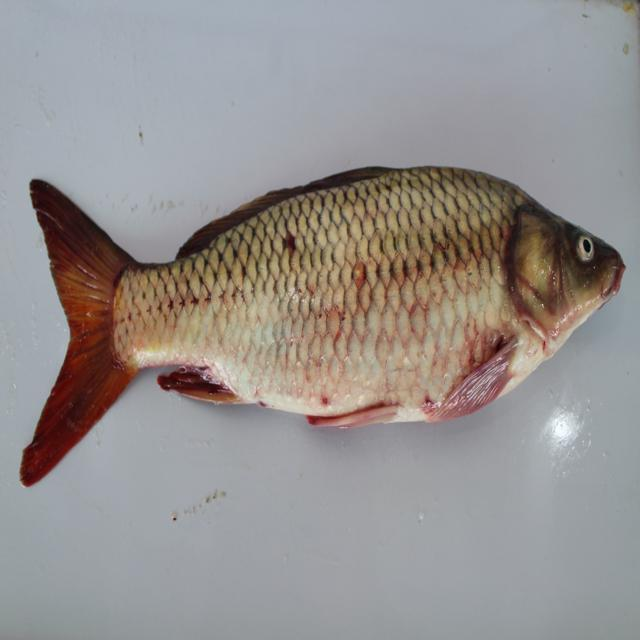Grass Carp: (6, 164, 619, 451)
